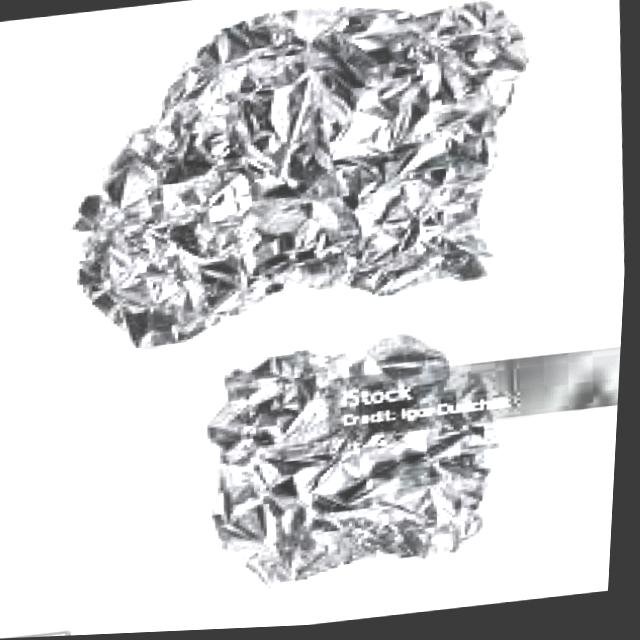Foil: (54, 0, 532, 357), (183, 306, 546, 603)
